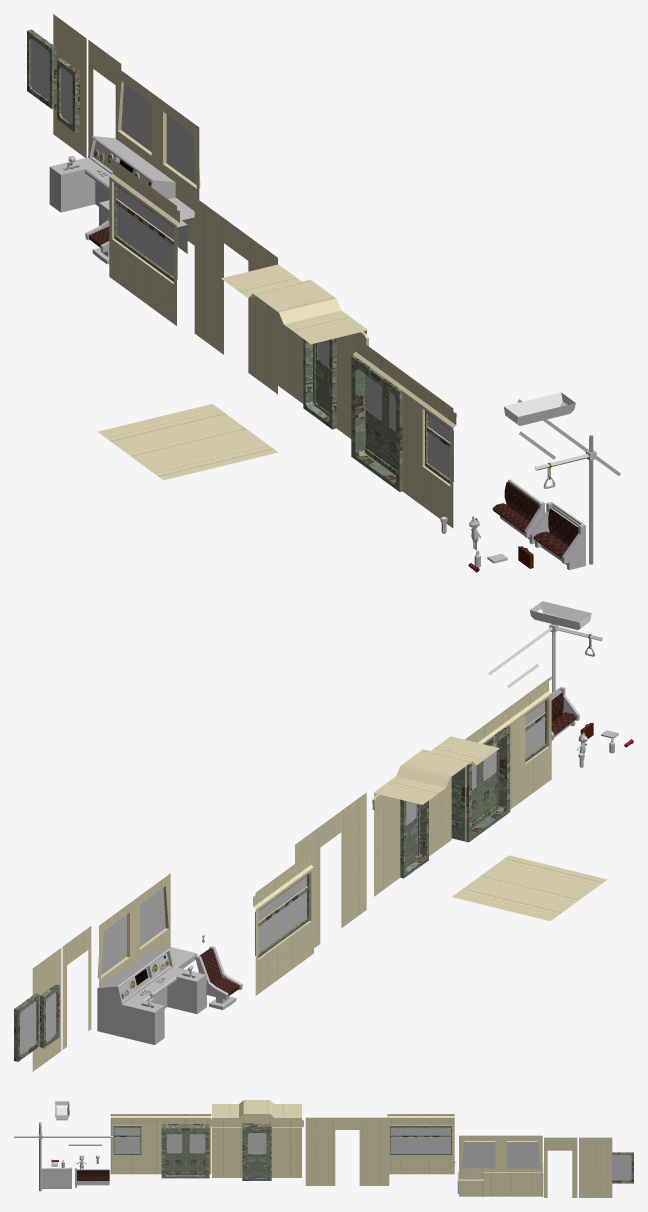
The model's file is trainINside.fbx.
The picture shows the model from 3 angles, top to bottom: view 1: azimuth 30°, elevation 25°; view 2: azimuth 150°, elevation 25°; view 3: azimuth 270°, elevation 25°; orthographic projection. The views are drawn at different scales.
Visible parts, largest first — view 1: Window wall big, train control Room entry, tran big tile, subway train roof, console, Window wall, door frame big, train control Room window, train chair (×2), exit wall, train control Room window glass, big door (+8 smaller); view 2: console, Window wall big, tran big tile, train control Room entry, subway train roof, exit wall, door frame big, Window wall, train control Room window, train control Room window glass, train control Room wall.001, big door (+9 smaller); view 3: train control Room entry, exit wall, Window wall big, train control Room window, train control Room wall.001, Window wall, train control Room window glass, big door, door frame big, subway train roof, train chair (×2), door (+8 smaller).
Part boxes in pixels (x1,y1,x2,y2): Window wall big: (109, 157, 179, 325); train control Room entry: (194, 197, 277, 394); tran big tile: (97, 404, 278, 480); subway train roof: (221, 264, 367, 344); console: (49, 136, 175, 225); Window wall: (420, 384, 456, 528); door frame big: (351, 335, 406, 491); train control Room window: (115, 66, 200, 245); train chair (×2): (492, 479, 585, 570); exit wall: (277, 311, 368, 438); train control Room window glass: (121, 83, 196, 184); big door: (364, 374, 395, 475); console: (97, 948, 206, 1044); Window wall big: (253, 850, 313, 995); tran big tile: (452, 855, 607, 920); train control Room entry: (295, 792, 366, 948); subway train roof: (373, 736, 499, 804); exit wall: (372, 777, 451, 896); door frame big: (451, 707, 510, 842); Window wall: (520, 676, 551, 799); train control Room window: (97, 873, 170, 987); train control Room window glass: (101, 888, 165, 975); train control Room wall.001: (32, 948, 61, 1071); big door: (472, 741, 498, 827); train control Room entry: (305, 1117, 389, 1185); exit wall: (210, 1114, 303, 1177); Window wall big: (387, 1114, 454, 1174); train control Room window: (459, 1135, 542, 1196); train control Room wall.001: (579, 1137, 612, 1197); Window wall: (110, 1114, 143, 1174); train control Room window glass: (461, 1142, 540, 1168); big door: (165, 1132, 205, 1174); door frame big: (160, 1114, 211, 1178); subway train roof: (212, 1100, 301, 1117); train chair (×2): (41, 1167, 109, 1189); door: (245, 1131, 268, 1177).
Bounding box in the file's own units: 728 × 408 × 2802.
